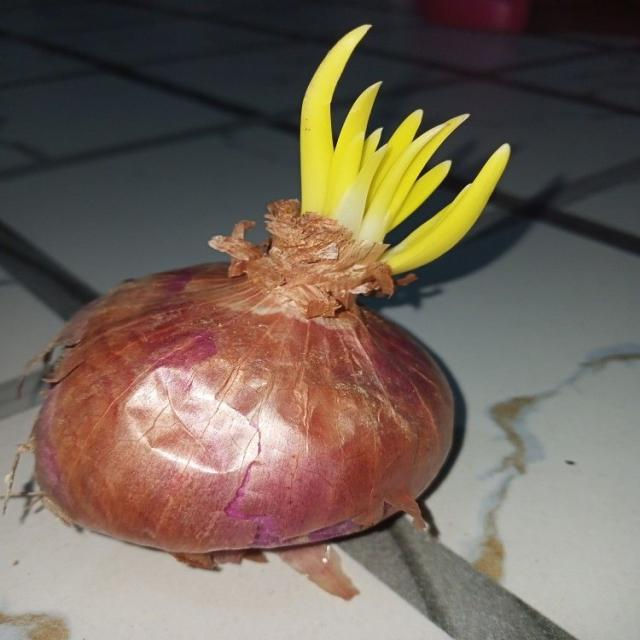sprouting: (34, 21, 528, 550)
